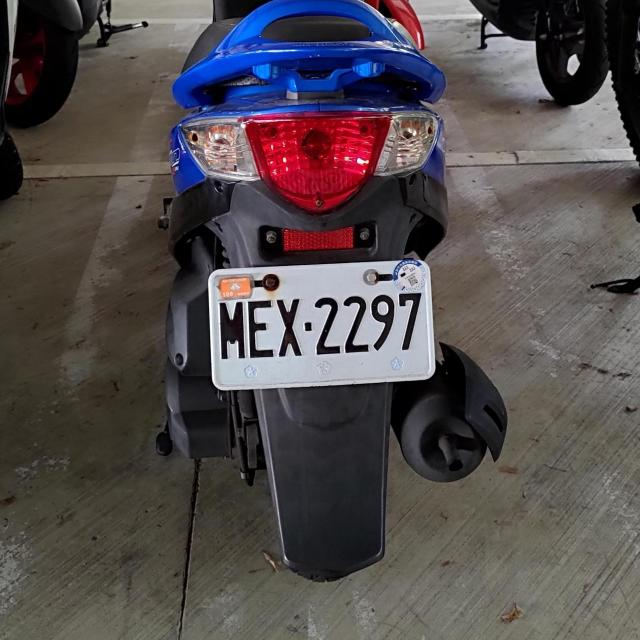W: (208, 258, 434, 388)
